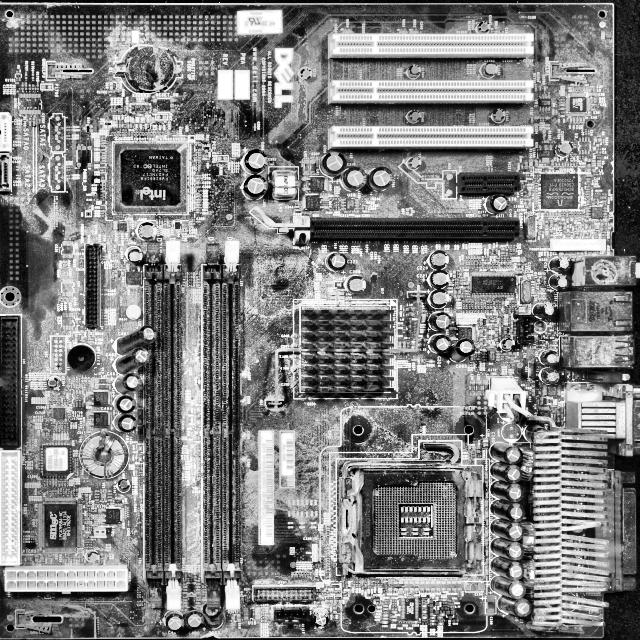PCB: (1, 6, 639, 640)
